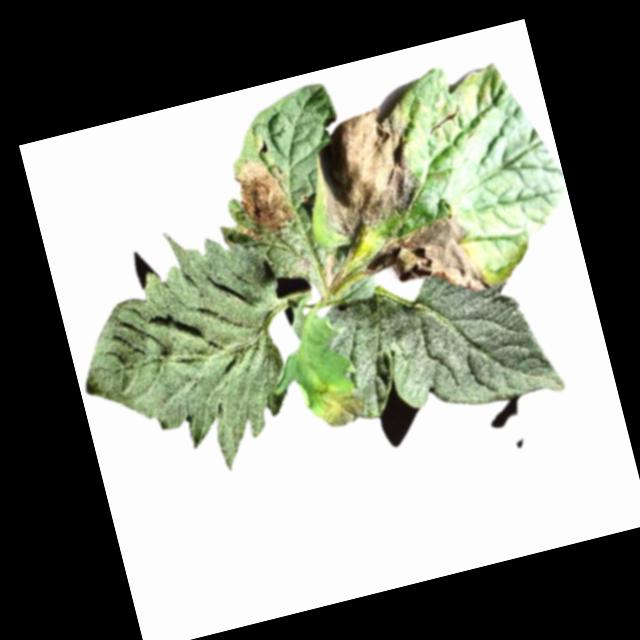Late_blight: (297, 101, 431, 245), (351, 211, 480, 319), (228, 149, 297, 240), (312, 378, 371, 432), (317, 254, 344, 292)
